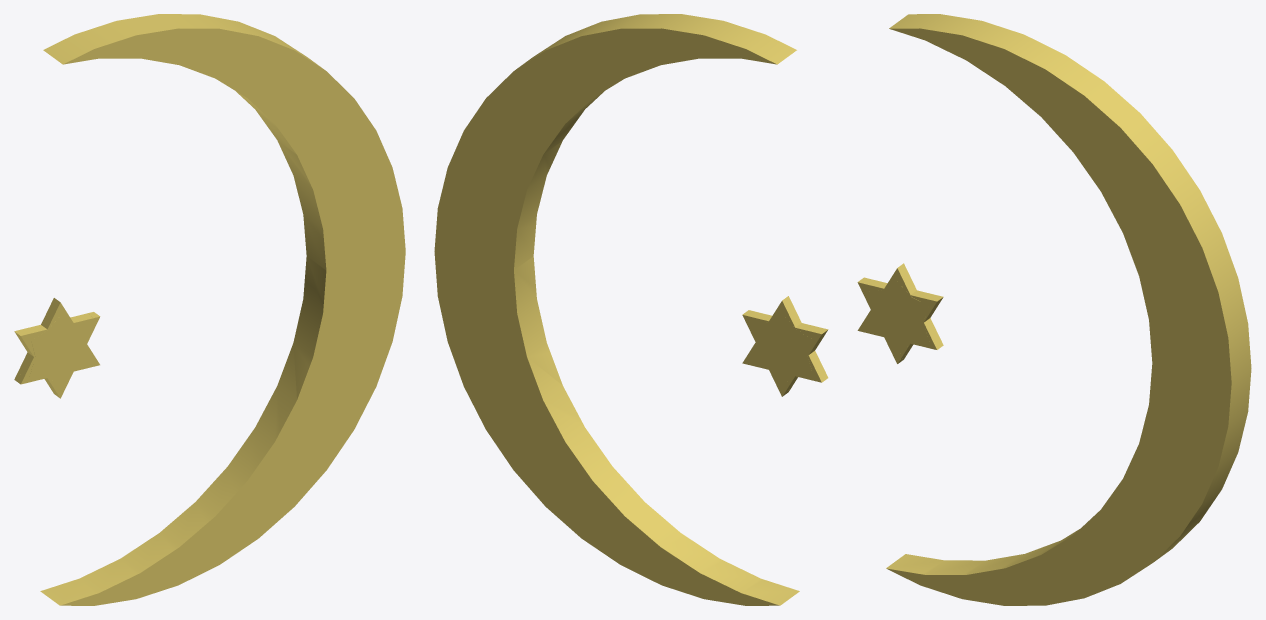
The model's file is islamIcon.fbx.
3 views of the same model, side by side, from view 1: azimuth 30°, elevation 25°; view 2: azimuth 150°, elevation 25°; view 3: azimuth 330°, elevation 25° (orthographic).
Parts seen in each view (by area): view 1: pCube58; view 2: pCube58; view 3: pCube58.
Boxes of the visible parts, x1,y1,x2,y2 form: pCube58: (14, 14, 405, 605); pCube58: (434, 14, 828, 605); pCube58: (857, 14, 1251, 605).
Bounding box in the file's own units: 61.9 × 87.86 × 5.59.
